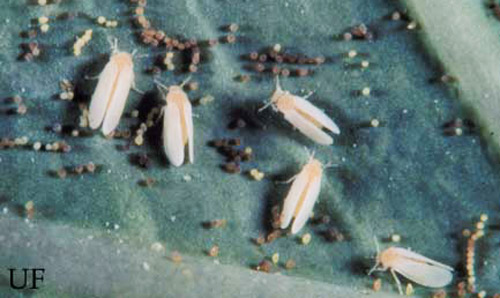Tobacco Whitefly: (258, 65, 343, 156), (276, 146, 333, 255), (156, 72, 207, 174), (363, 241, 457, 294), (84, 35, 129, 141)
